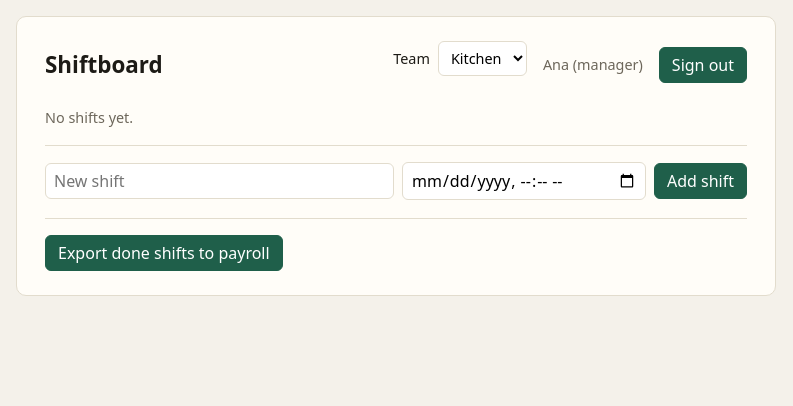
Scenario: App › adds a shift and shows it in the list
Type "Dinner" into the field named "New shift title". click: (220, 181)
box: [45,163,394,199]
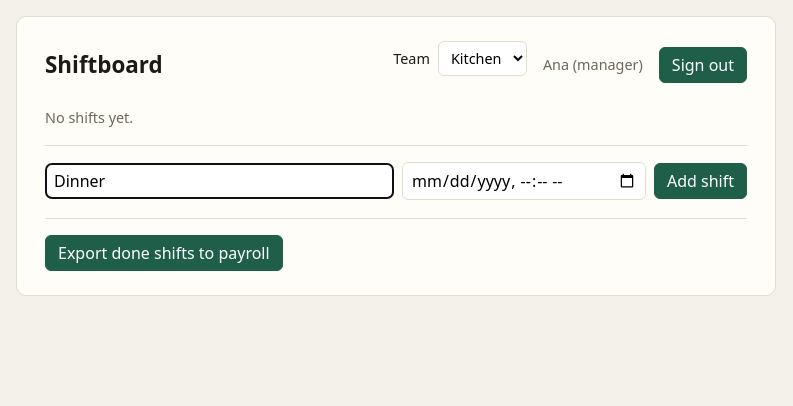
Type "2030-01-02T18:00" into the field named "Starts at". click: (524, 181)
box: [402,162,646,200]
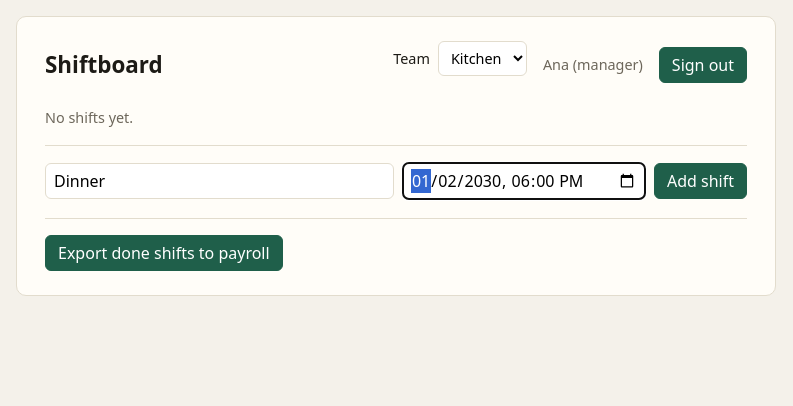
Click the button "Add shift". click: click(700, 181)
box: [654,163,747,199]
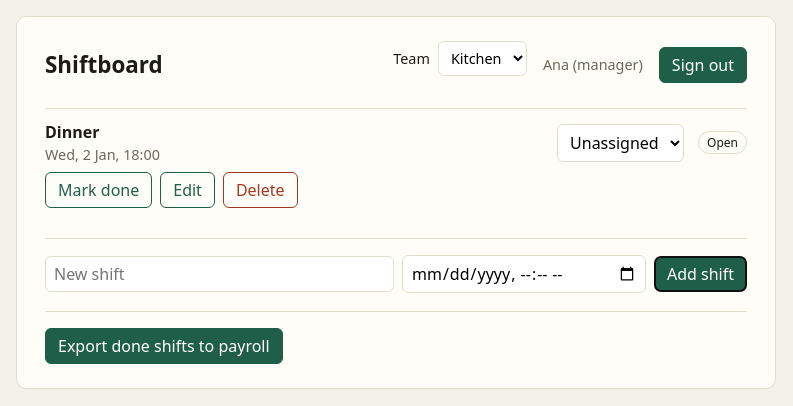
Now the text "Dinner" is shown, box [45,121,100,143]
